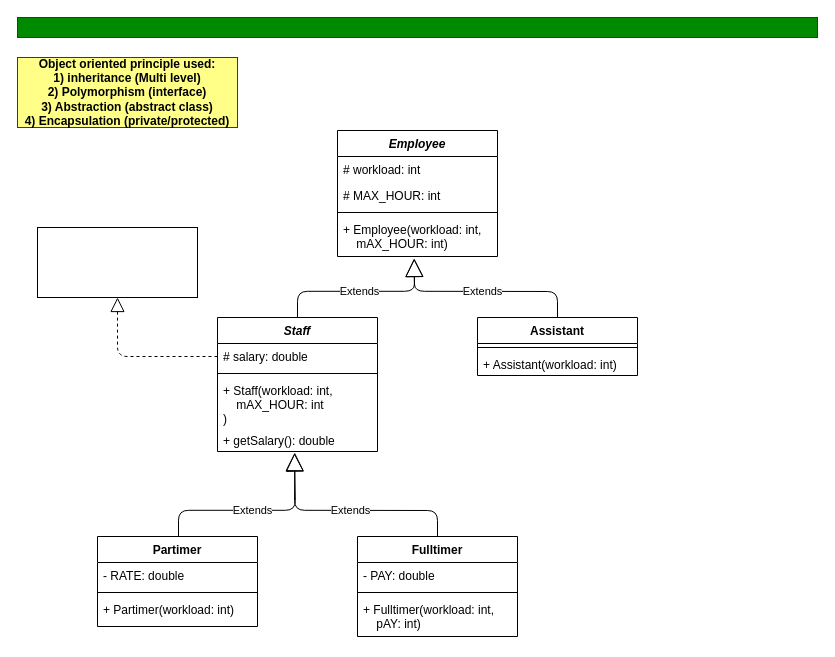
Some shapes in this 835 by 657 pixel diagram are drawn without their labels. Each missing label, with the box of its shape:
<<Interface>> Payable + computePay(): void: (36, 226, 198, 298)
Designer viewpoint: Class diagram (2): (16, 16, 818, 38)
